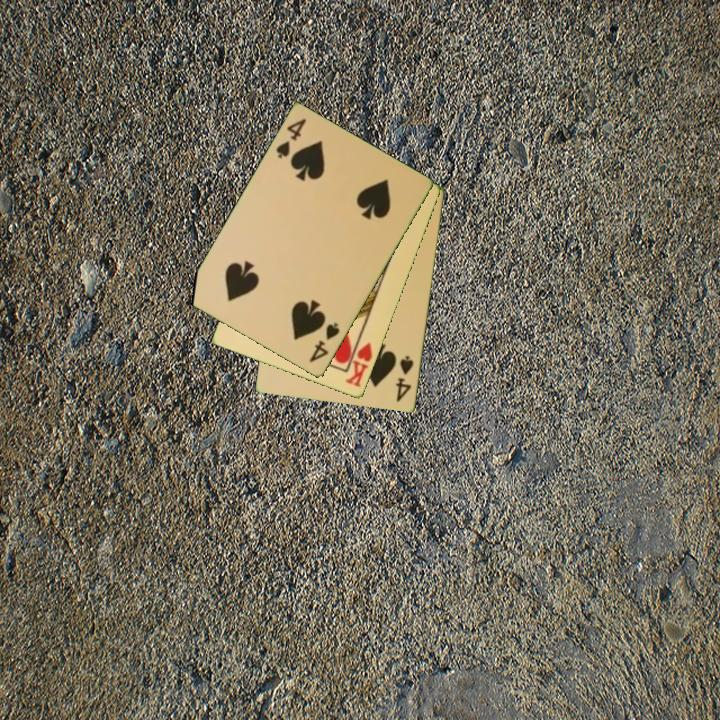4s: (306, 319, 343, 366), (272, 115, 309, 162), (393, 352, 417, 405)
Kh: (342, 333, 376, 391)
